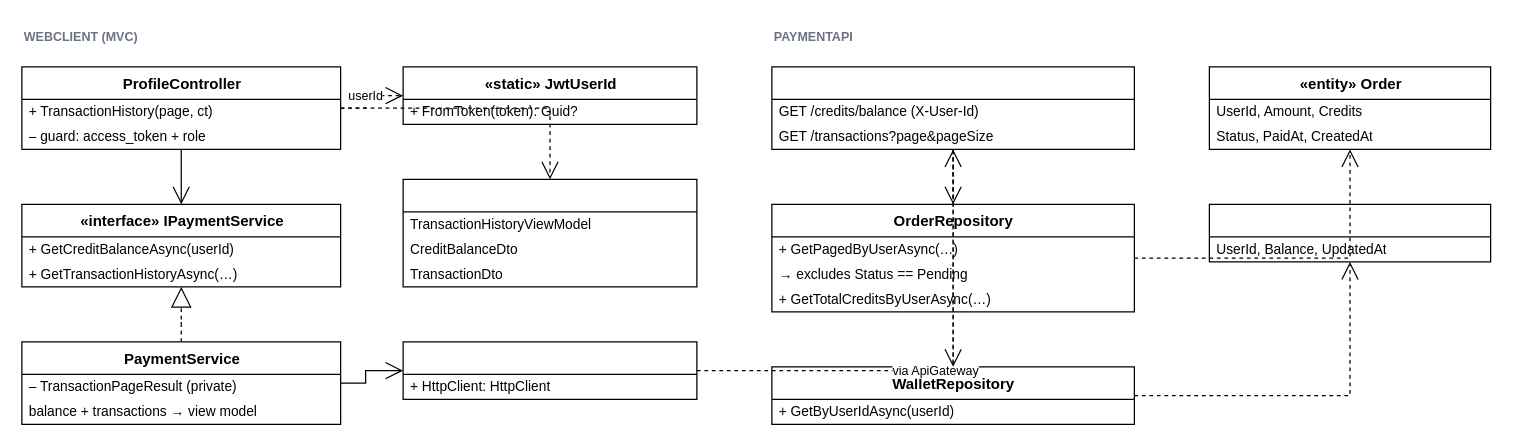
This 1513x446 diagram has some shape labels left out. The shapes that lost their labels are listed below. From the top down, each one's box as (x1, y1, x2, y2) in pixels, then its label:
(771, 66, 1134, 149): «endpoints · Program.cs» PaymentAPI
(402, 178, 697, 287): «view models» Models.Payment
(1208, 203, 1491, 262): «entity» CreditWallet
(402, 341, 697, 399): «IApiClient» ApiClient
